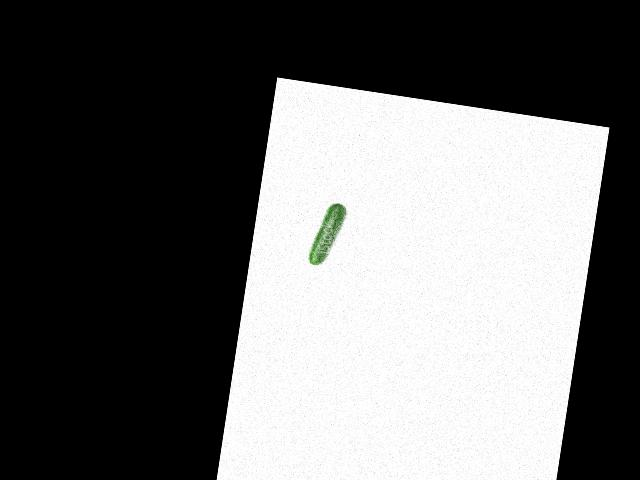cucumber: (307, 199, 347, 268)
